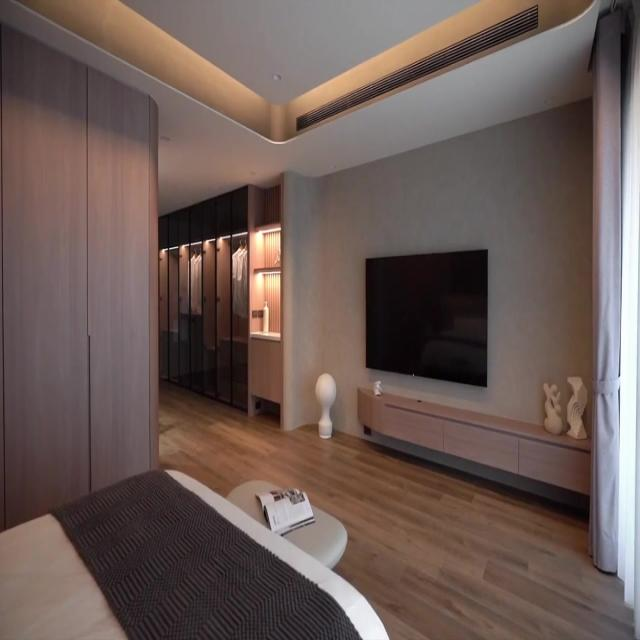obstacle: (0, 468, 390, 639), (356, 386, 592, 503), (225, 478, 347, 571)
